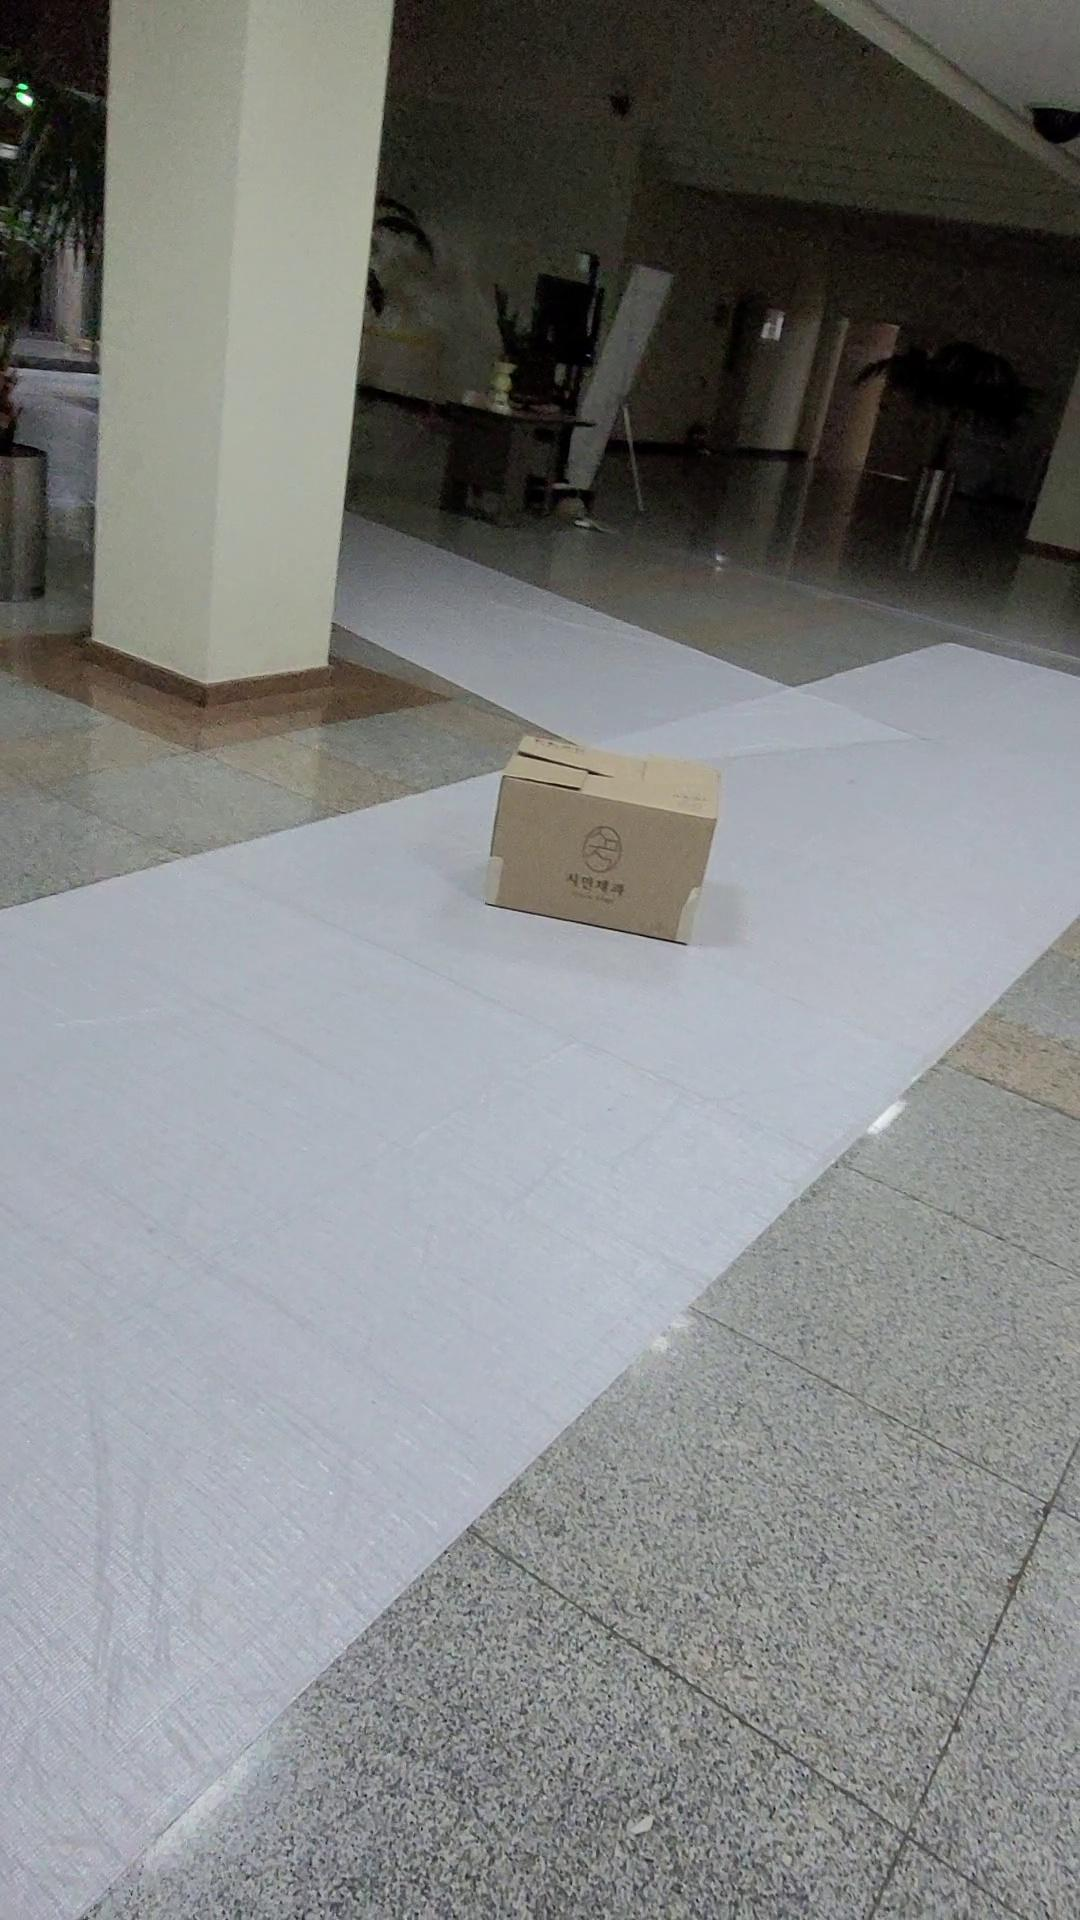Box: (443, 695, 774, 972)
